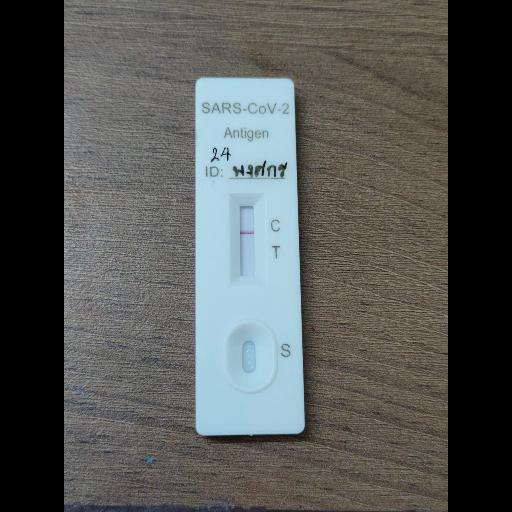Neg: (194, 76, 304, 432)
